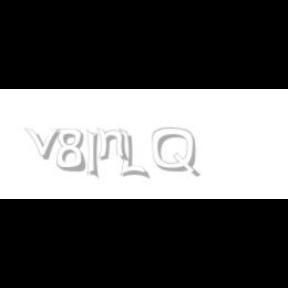8: (57, 128, 86, 172)
I: (87, 128, 100, 180)
L: (119, 128, 147, 180)
Q: (152, 128, 198, 178)
n: (96, 128, 130, 162)
v: (24, 128, 64, 160)
